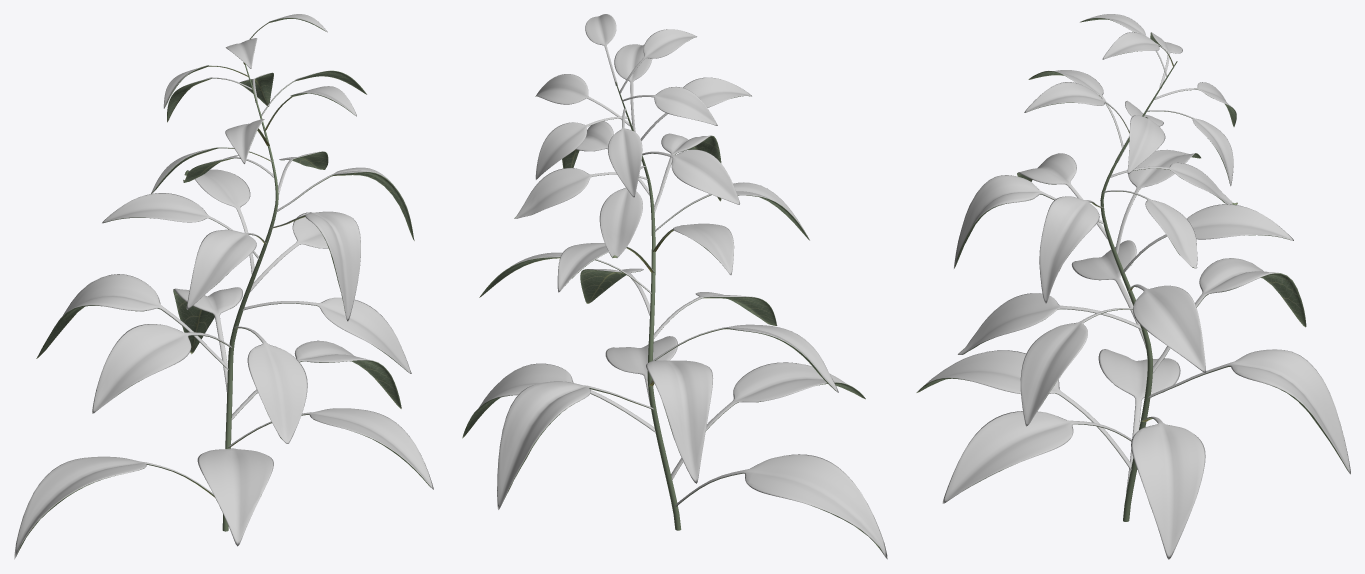
Rendered from Plant1.fbx.
3 renders of one model, left to right at view 1: azimuth 30°, elevation 25°; view 2: azimuth 150°, elevation 25°; view 3: azimuth 270°, elevation 25°, orthographic. The views are drawn at different scales.
Visible parts, largest first — view 1: Leaf, Stem; view 2: Leaf, Stem; view 3: Leaf, Stem.
Boxes of the visible parts, left/top/right/bottom form: Leaf: left=14, top=14, right=433, bottom=559; Stem: left=222, top=64, right=278, bottom=531; Leaf: left=462, top=14, right=887, bottom=559; Stem: left=615, top=82, right=681, bottom=530; Leaf: left=916, top=14, right=1350, bottom=559; Stem: left=1100, top=61, right=1177, bottom=521.
Size of the model in its own units: 1145 by 1336 by 1012.
